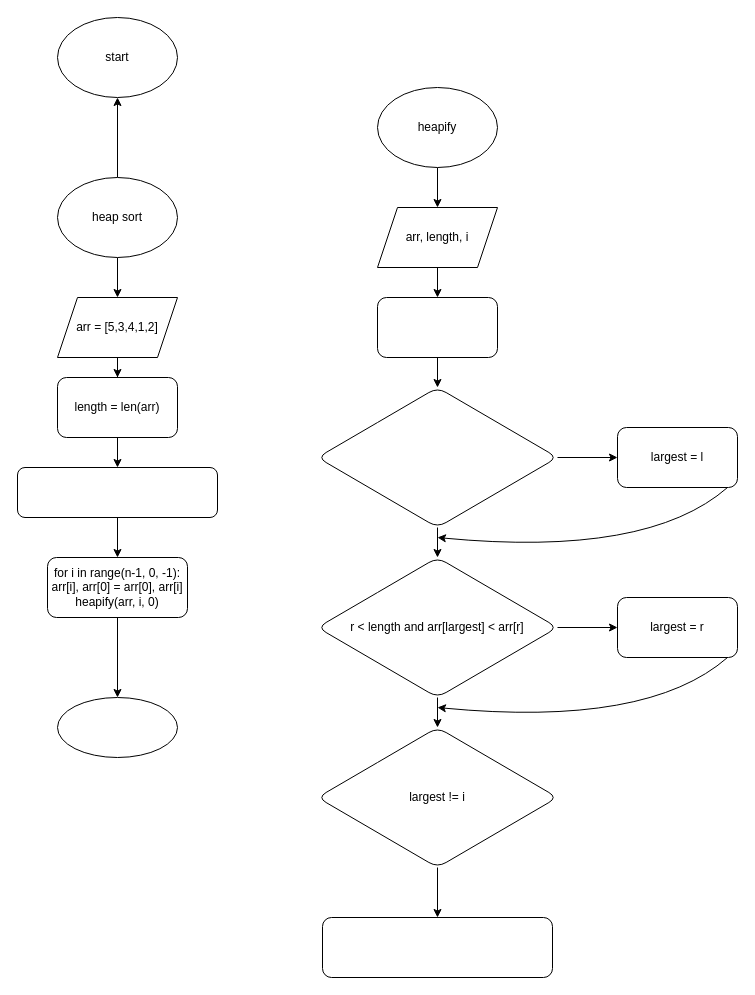
The diagram is 755 pixels wide and 995 high, and some of its shapes have lost their labels. The box of each missing label's shape, as (x1, y1, x2, y2) in pixels:
arr[i], arr[largest] = arr[largest], arr[i] heapify(arr, length, largest}: (322, 916, 552, 978)
end: (56, 696, 178, 758)
for i in range(length//2-1, -1, -1): heapify(arr, length, i): (16, 466, 218, 518)
l < length and arr[largest] < arr[l]: (316, 386, 558, 528)
largest = i l = 2*i+1 r = 2*i + 2: (376, 296, 498, 358)
